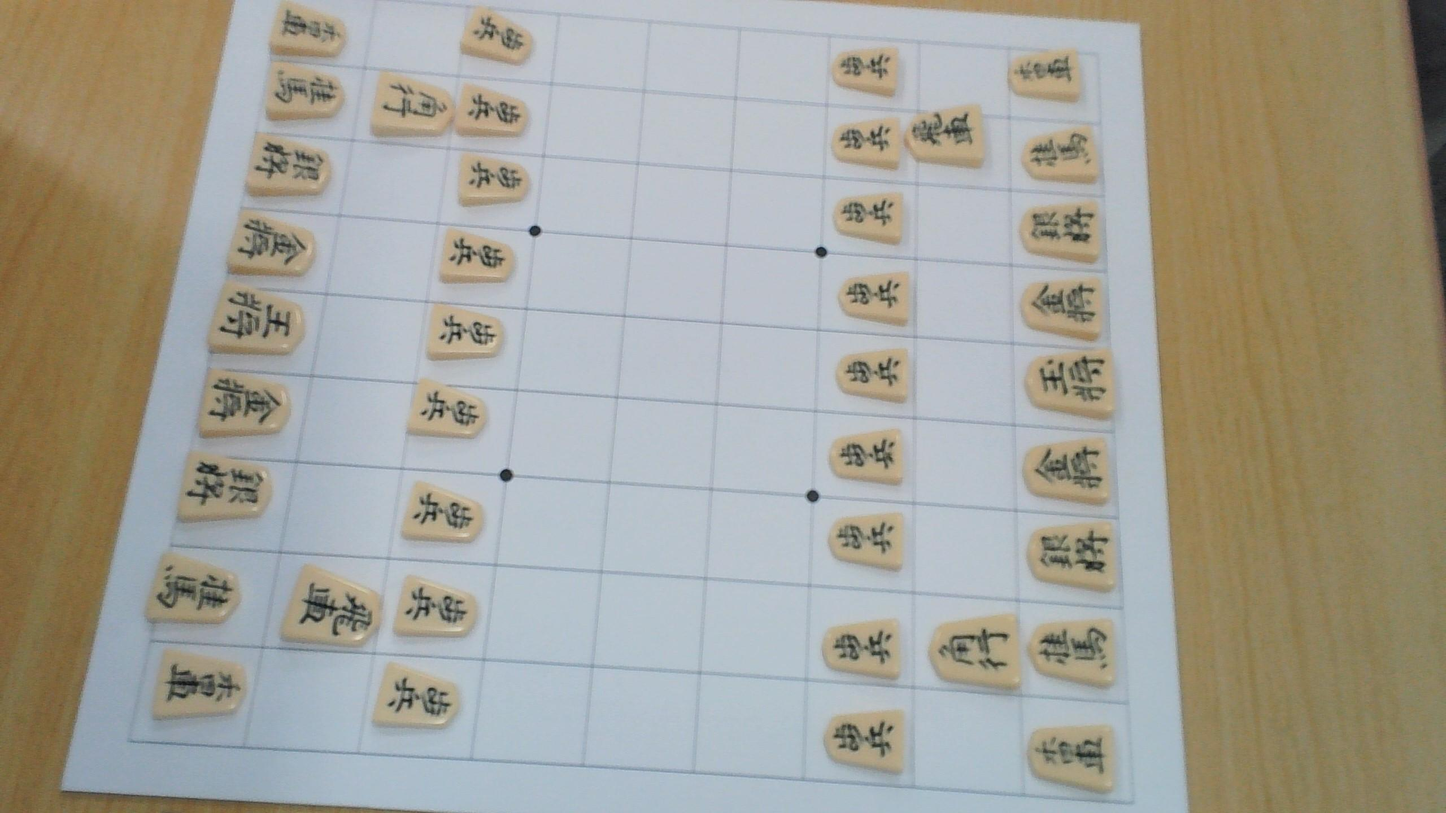board: (131, 0, 1130, 804)
